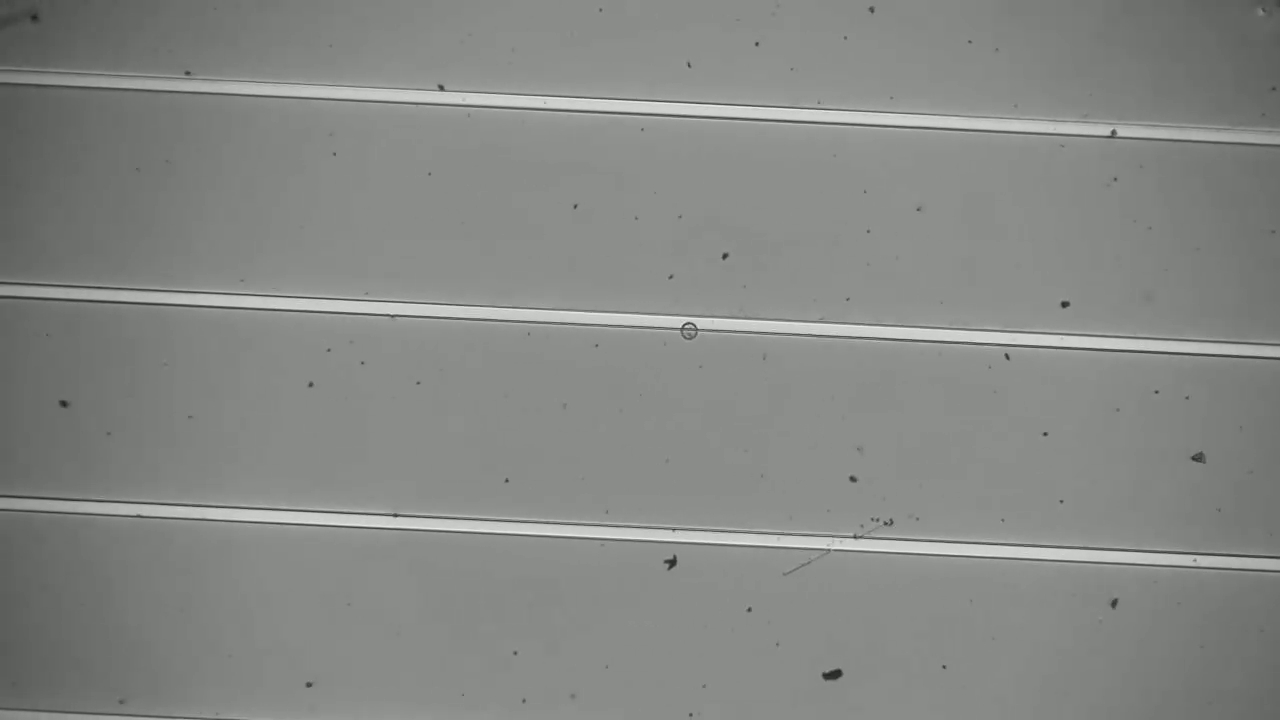stains_enbedded: (674, 310, 705, 347)
